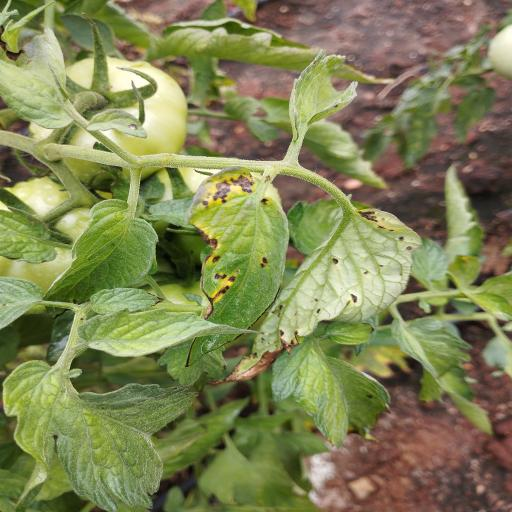Early Blight: (213, 205, 424, 385), (180, 164, 291, 370)
